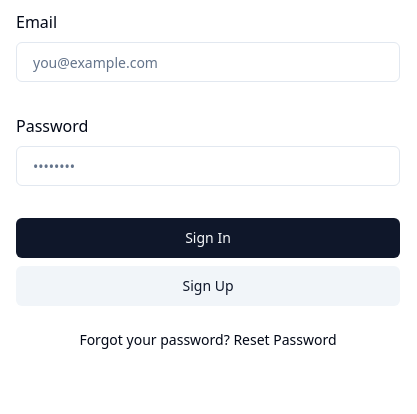
Test: LoginPageClient › guides already-registered users to sign in instead of claiming signup failed
Type "player@example.com" into the field labelled "Email". click: (208, 62)
box: x1=16 y1=42 x2=400 y2=82
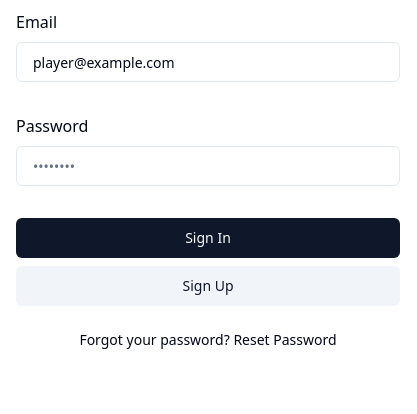
Type "password123" into the password field labelled "Password". click: (208, 166)
box: x1=16 y1=146 x2=400 y2=186
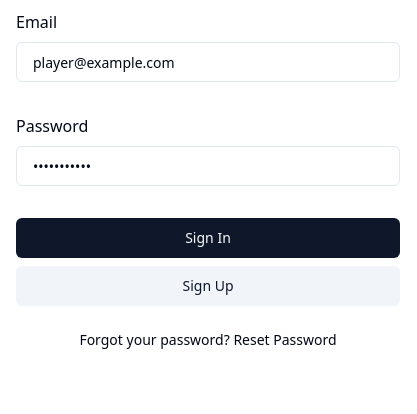
Click the button "Sign Up". click: (208, 286)
box: x1=16 y1=266 x2=400 y2=306
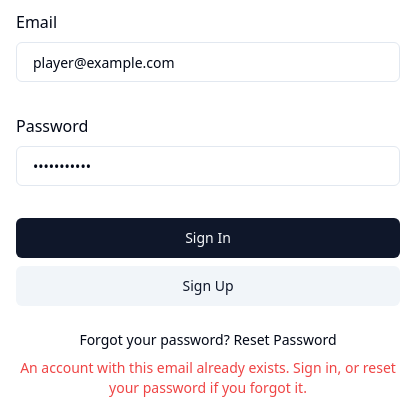
Check: the text "already exists" is shown, box x1=20 y1=358 x2=396 y2=397
